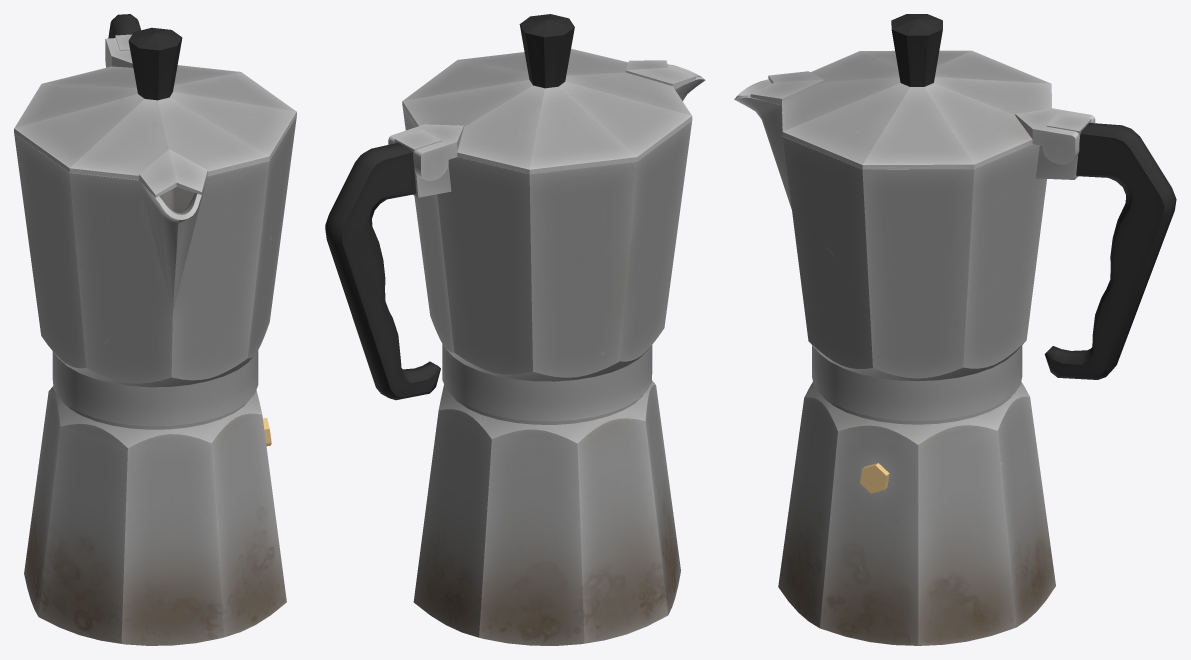
Rendered from moka_pot.glb.
The picture shows the model from 3 angles, left to right: view 1: azimuth 30°, elevation 25°; view 2: azimuth 150°, elevation 25°; view 3: azimuth 270°, elevation 25°; orthographic projection. The views are drawn at different scales.
Parts seen in each view (by area): view 1: Object_12, lid_2; view 2: Object_12, lid_2; view 3: Object_12, lid_2.
Part boxes in pixels (<box>): Object_12: <box>14,14,296,645</box>; lid_2: <box>14,27,296,197</box>; Object_12: <box>325,64,705,645</box>; lid_2: <box>388,14,695,180</box>; Object_12: <box>734,79,1176,645</box>; lid_2: <box>750,14,1095,169</box>.
Bounding box in the file's own units: 0.0749 × 0.1706 × 0.1192.
Materials: 1 (1 with a texture image).
